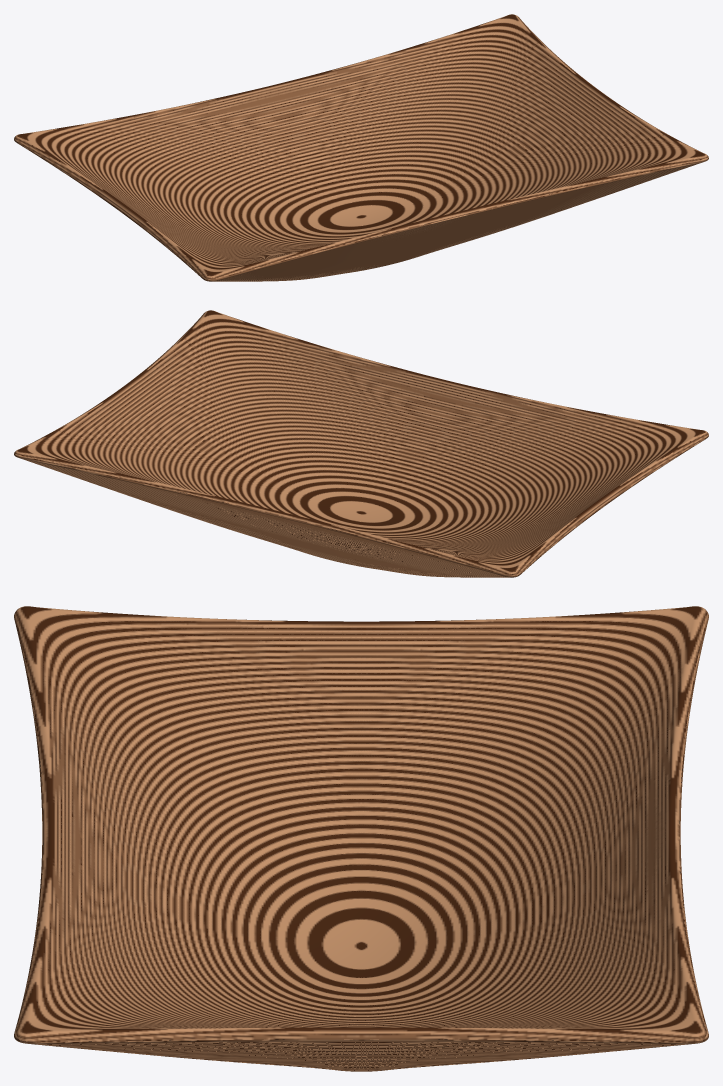
File: Заготовка3.glb
The picture shows the model from 3 angles, top to bottom: view 1: azimuth 30°, elevation 25°; view 2: azimuth 150°, elevation 25°; view 3: azimuth 270°, elevation 25°; orthographic projection. The views are drawn at different scales.
Visible parts, largest first — view 1: Solid_115; view 2: Solid_115; view 3: Solid_115.
Boxes of the visible parts, x1,y1,x2,y2 form: Solid_115: (14,14,708,281); Solid_115: (14,310,708,577); Solid_115: (14,606,708,1071).
Size of the model in its own units: 558 by 105 by 378.
1 material, 1 textured.
